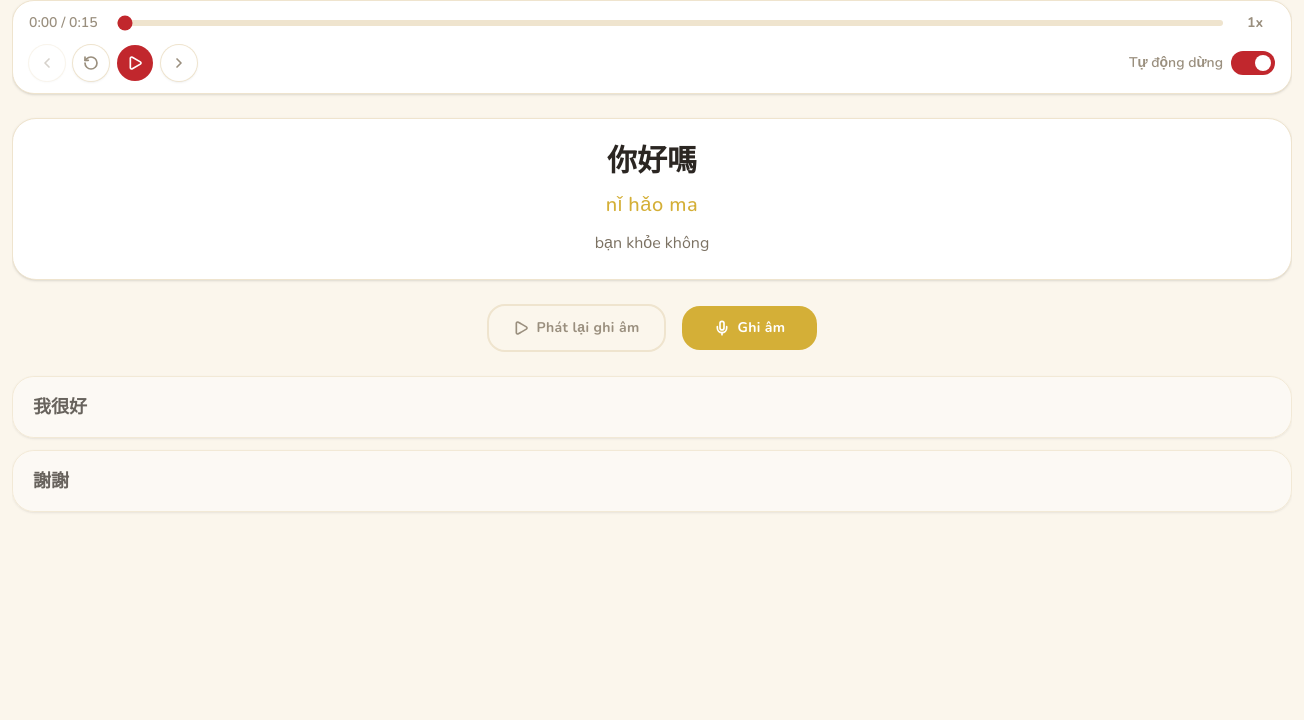
Test case: ShadowingScreen › advances to the next line and plays it when "Câu sau" is clicked
Click the button named "Câu sau".
click(179, 63)  # box [161,45,197,81]
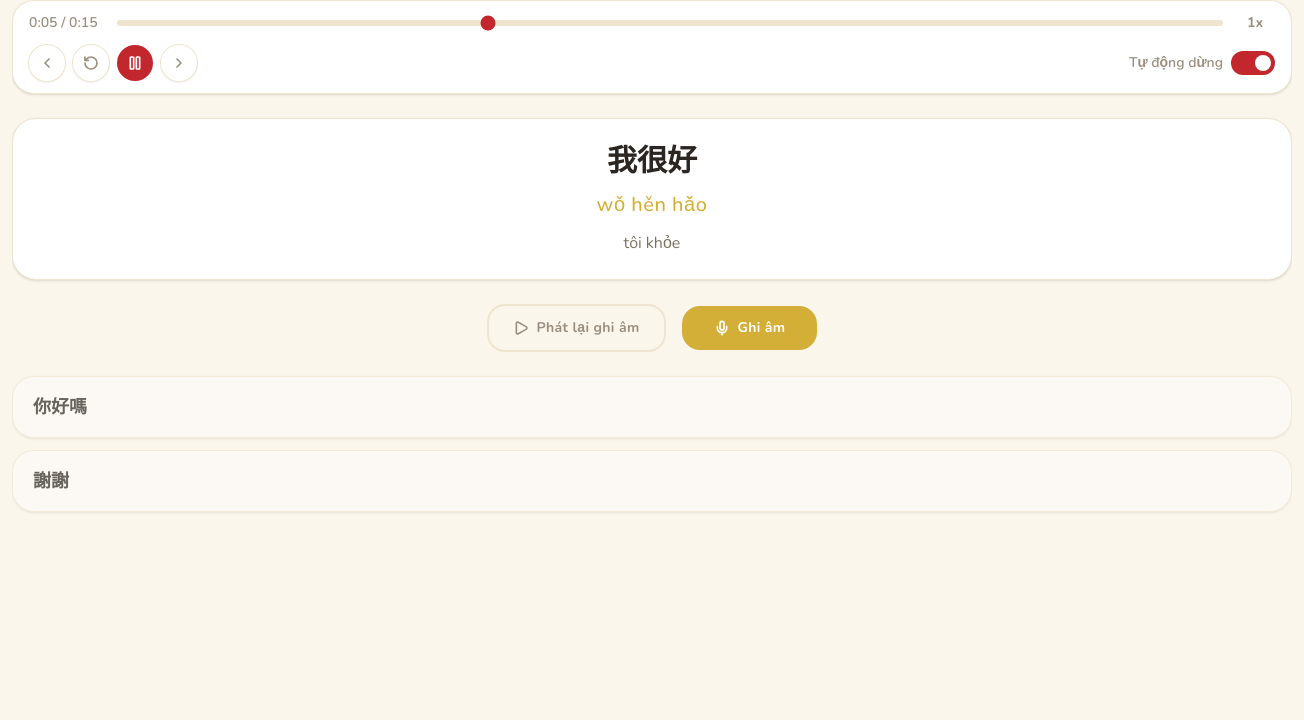
Expected: the heading "我很好" is shown, [607,144,697,177]
